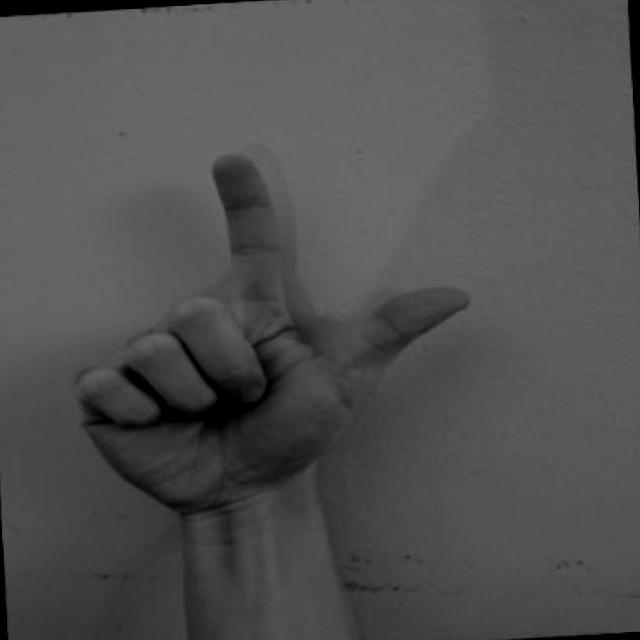L: (77, 149, 473, 524)
